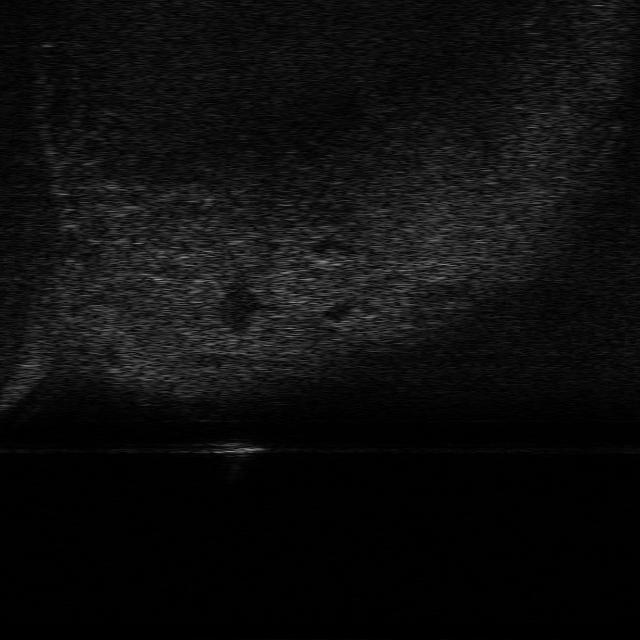cube: (215, 437, 267, 462)
